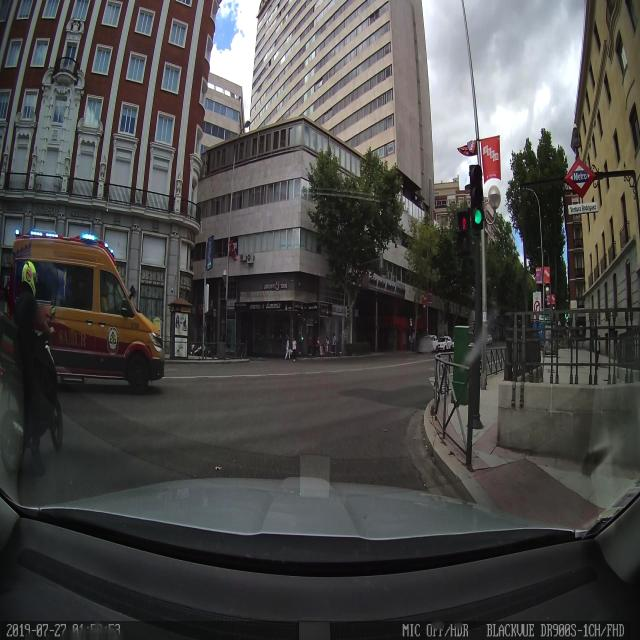bike: (6, 332, 61, 466)
car: (9, 230, 167, 389), (435, 334, 454, 352)
